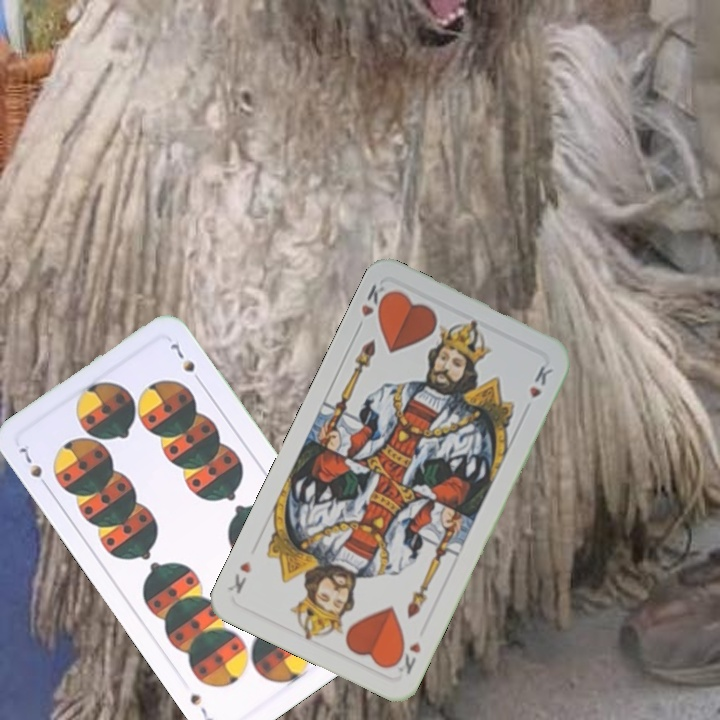HK: (352, 279, 393, 335), (389, 637, 424, 677)
S7: (13, 440, 52, 493)
